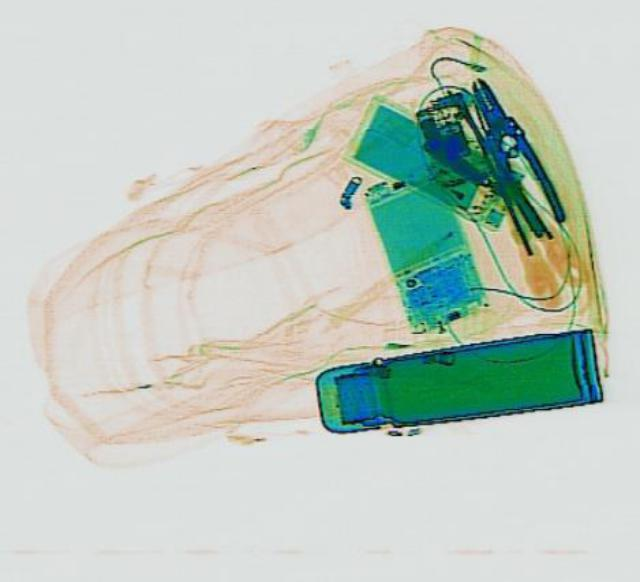Pliers: (454, 67, 570, 236)
